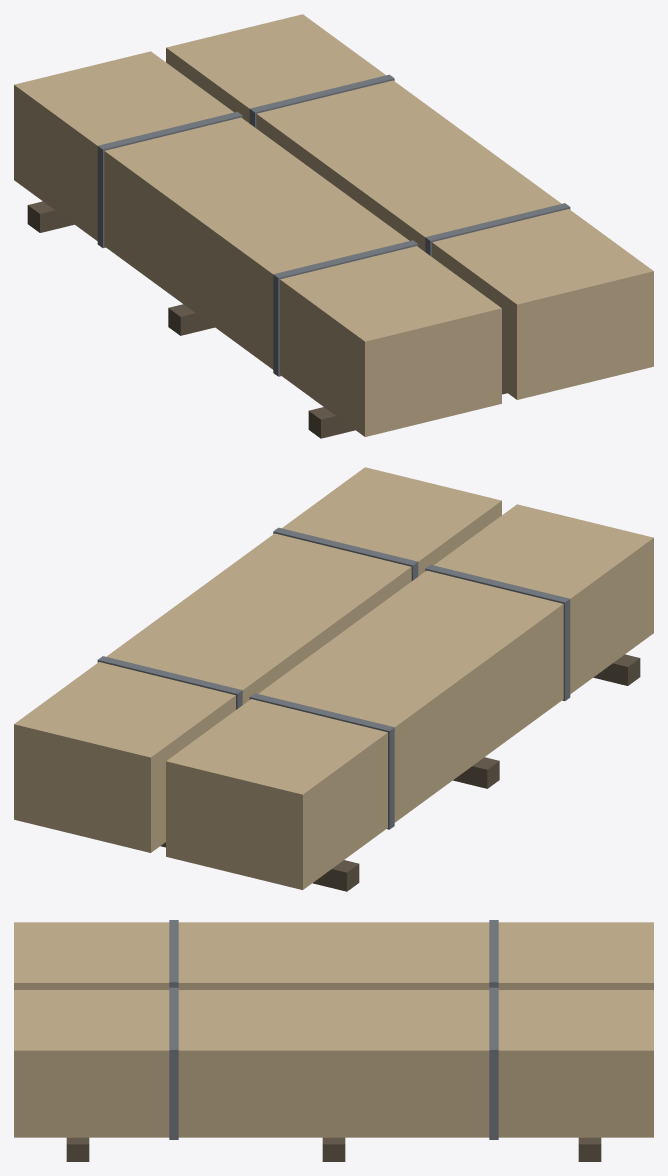
The model's file is scatter6.fbx.
3 views of the same model, one above another, from view 1: azimuth 30°, elevation 25°; view 2: azimuth 150°, elevation 25°; view 3: azimuth 270°, elevation 25° (orthographic). The views are drawn at different scales.
Visible parts, largest first — view 1: a1037/0/scatter6; view 2: a1037/0/scatter6; view 3: a1037/0/scatter6.
Part boxes in pixels (x1,y1,x2,y2): a1037/0/scatter6: [14, 14, 653, 438]; a1037/0/scatter6: [14, 467, 653, 891]; a1037/0/scatter6: [14, 920, 653, 1161].
Bounding box in the file's own units: 2.1 × 0.73 × 4.
